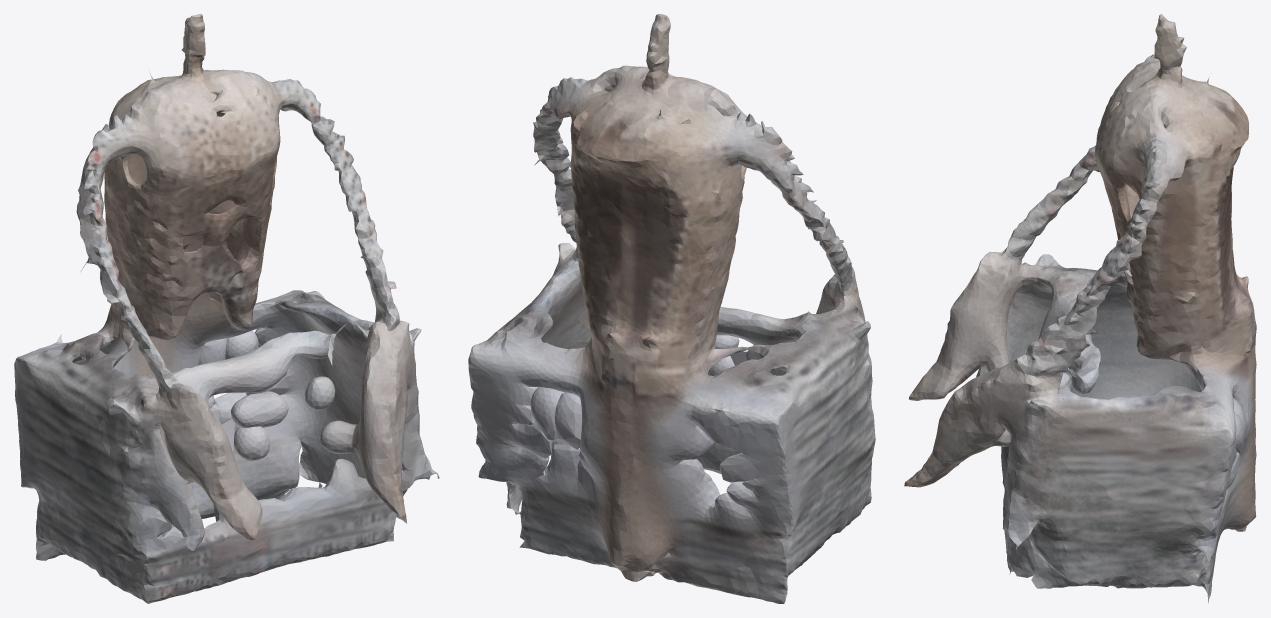
File: body_puppet.glb
3 renders of one model, left to right at view 1: azimuth 30°, elevation 25°; view 2: azimuth 150°, elevation 25°; view 3: azimuth 270°, elevation 25°, orthographic. The views are drawn at different scales.
Size of the model in its own units: 0.7277 by 1.15 by 0.6887.
Materials: 1 (1 with a texture image).
